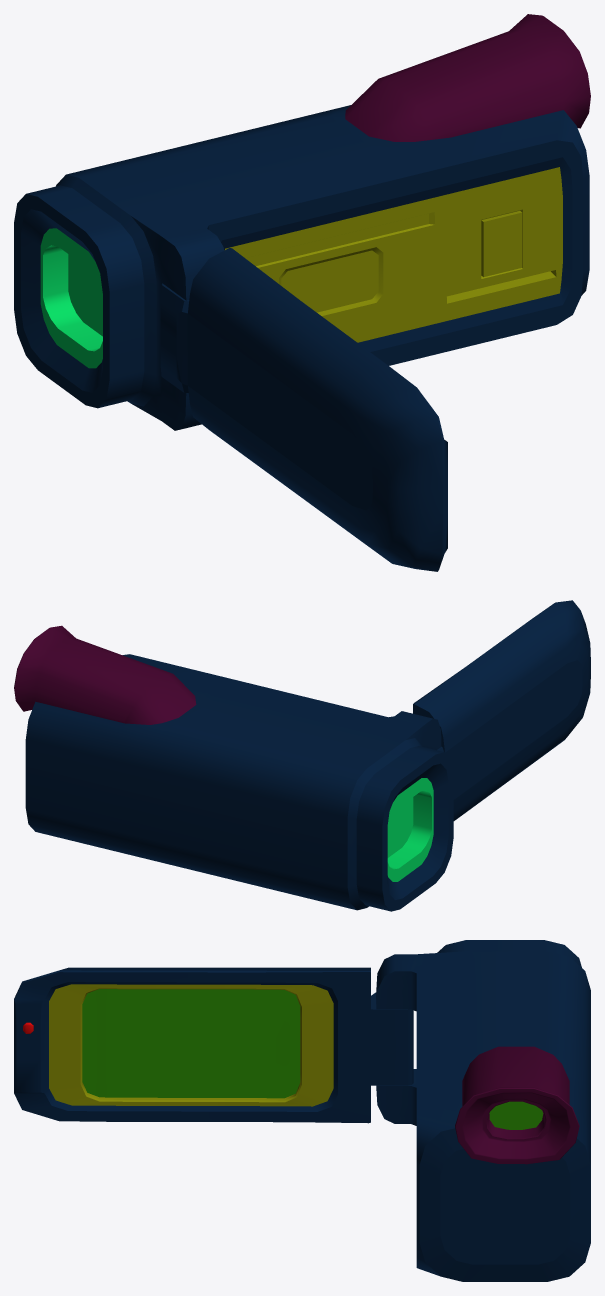
Rendered from cameramodel_final_REWORK_textured.fbx.
3 views of the same model, one above another, from view 1: azimuth 30°, elevation 25°; view 2: azimuth 150°, elevation 25°; view 3: azimuth 270°, elevation 25° (orthographic). The views are drawn at different scales.
Parts seen in each view (by area): view 1: main, screen; view 2: main, screen; view 3: main, screen.
Part boxes in pixels (box(x1,y1,x2,y2)): main: box(14, 14, 590, 430); screen: box(160, 248, 447, 571); main: box(14, 625, 453, 911); screen: box(413, 600, 590, 820); main: box(376, 940, 590, 1281); screen: box(14, 967, 413, 1123).
Size of the model in its own units: 9.82 by 4.61 by 11.88.
